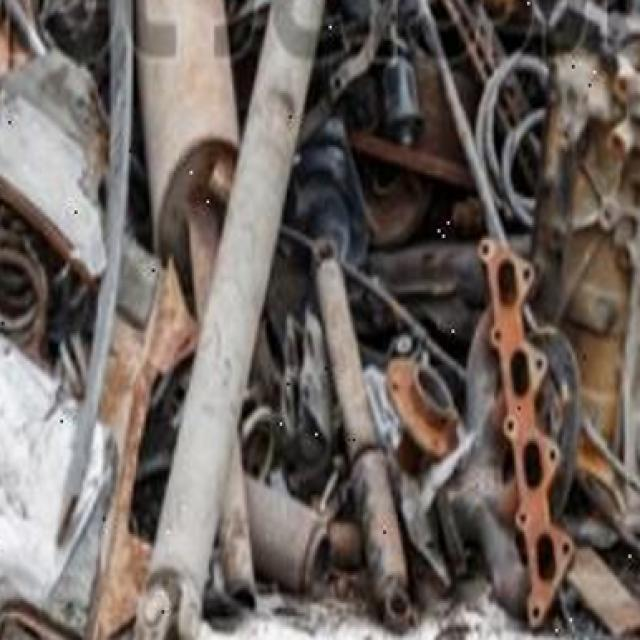shock absorber: (311, 237, 411, 634)
